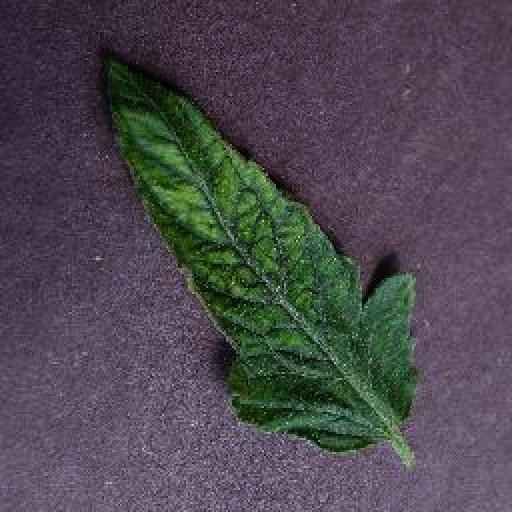disease_tomato: (100, 48, 420, 452)
